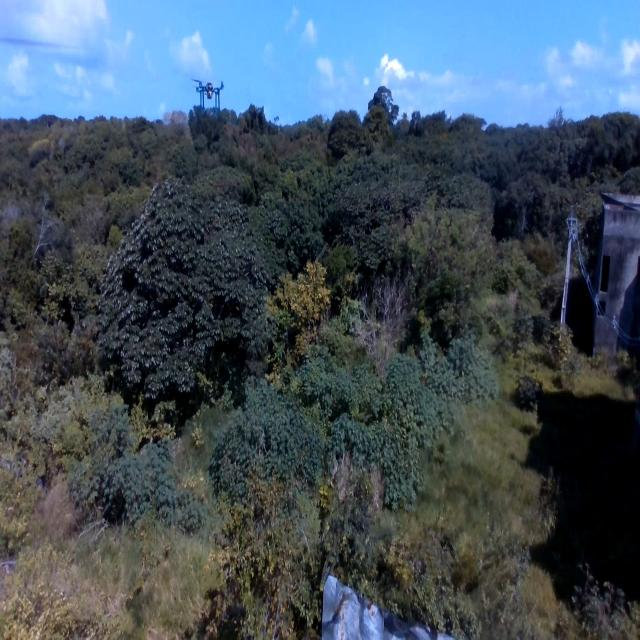-uav-: (187, 68, 230, 120)
